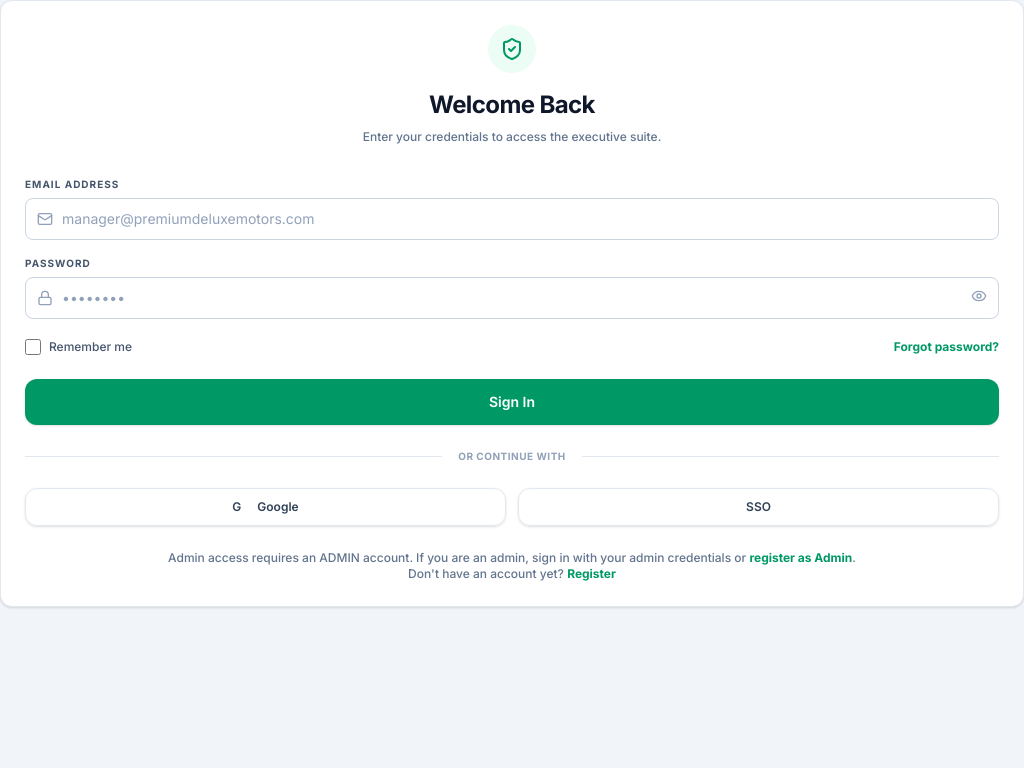
Test: LoginPage › shows a loading state while login is pending
This screenshot has width=1024, height=768.
Type "alice@example.com" into the field labelled "EMAIL ADDRESS" at (512, 219), box x1=25 y1=198 x2=999 y2=240
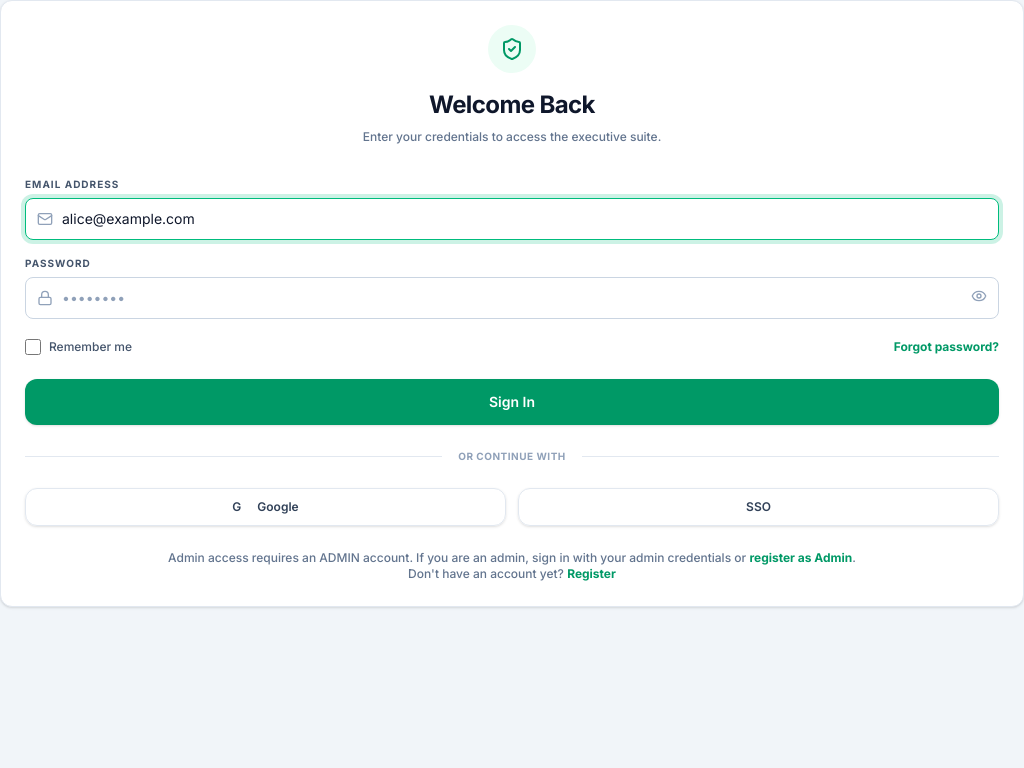
Type "strongpassword" into the password field labelled "PASSWORD" at (512, 298), box x1=25 y1=277 x2=999 y2=319
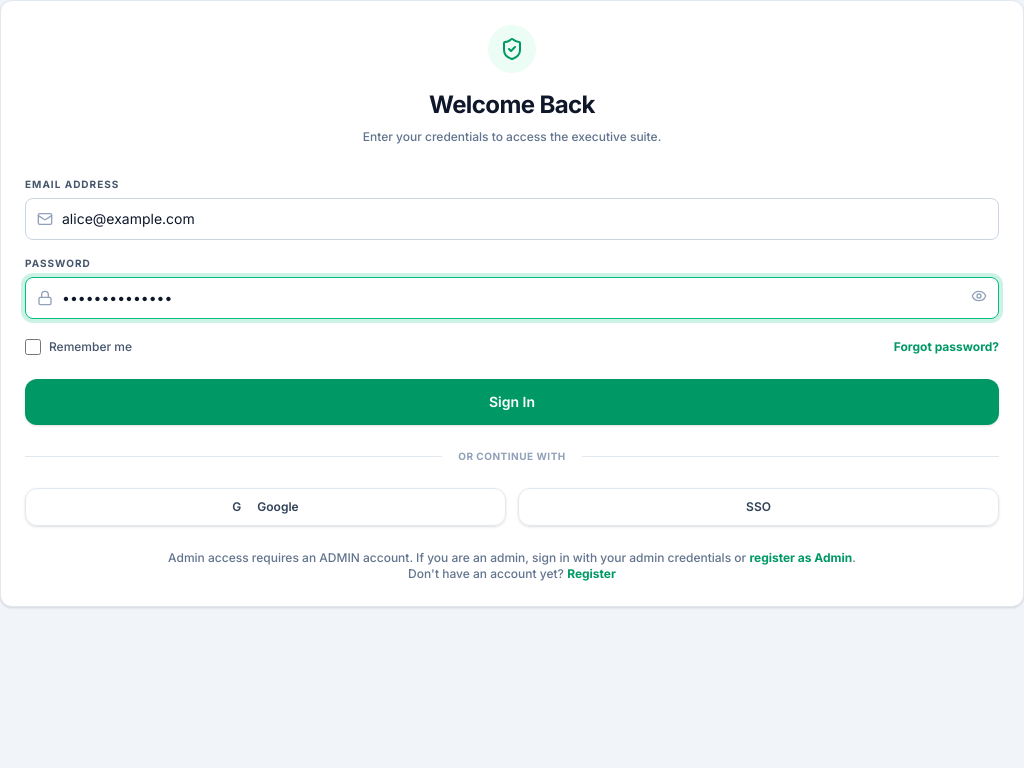
Click the button "Sign In" at (512, 402), box x1=25 y1=379 x2=999 y2=425
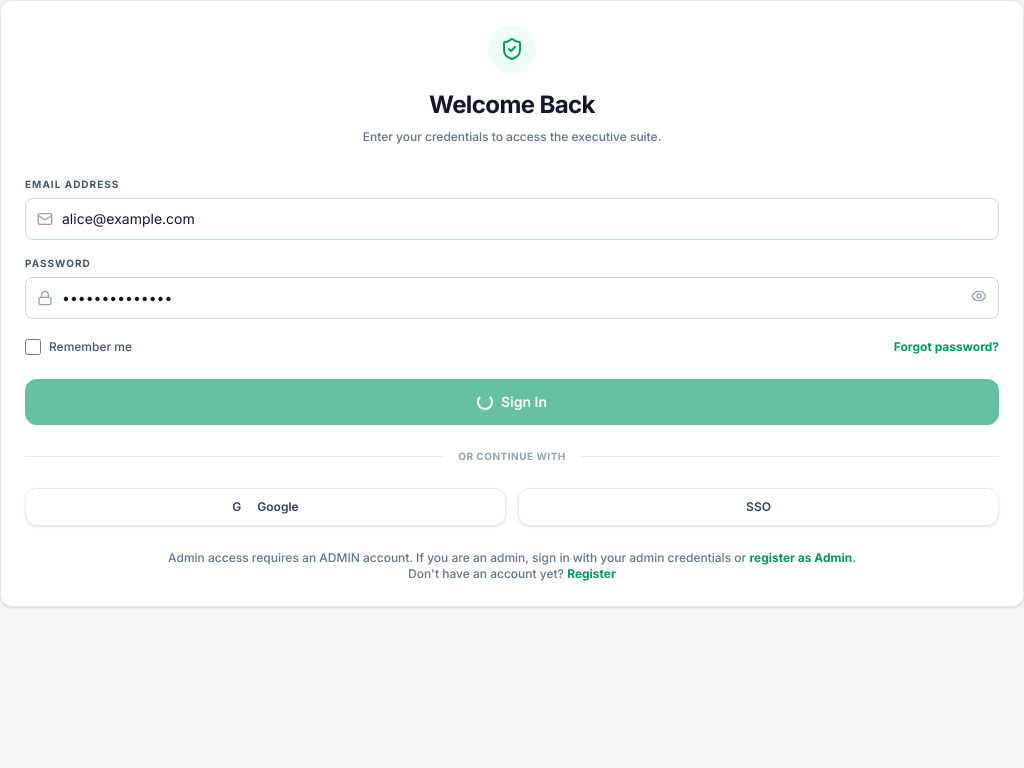
Check: the button "Sign In" is disabled, box x1=25 y1=379 x2=999 y2=425
